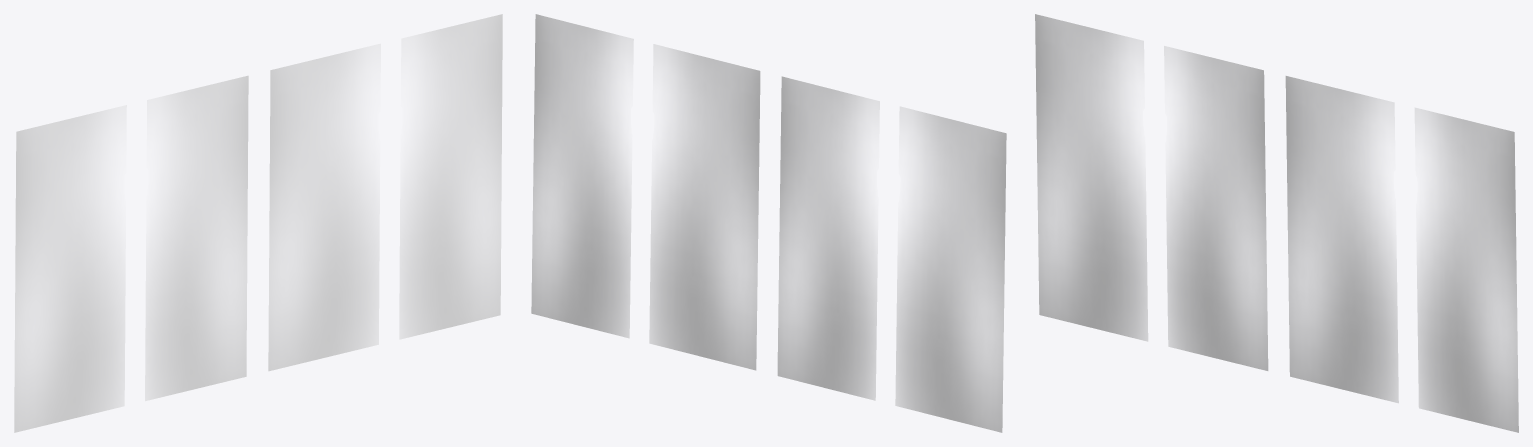
The model's file is fridge1_fridgeglass_0.001_lev2.glb.
3 renders of one model, left to right at view 1: azimuth 30°, elevation 25°; view 2: azimuth 150°, elevation 25°; view 3: azimuth 330°, elevation 25°, orthographic. The views are drawn at different scales.
Visible parts, largest first — view 1: fridge1_fridgeglass_0.001_lev2; view 2: fridge1_fridgeglass_0.001_lev2; view 3: fridge1_fridgeglass_0.001_lev2.
Boxes of the visible parts, x1,y1,x2,y2 form: fridge1_fridgeglass_0.001_lev2: (14, 14, 502, 432); fridge1_fridgeglass_0.001_lev2: (531, 14, 1006, 432); fridge1_fridgeglass_0.001_lev2: (1035, 14, 1518, 432).
Size of the model in its own units: 10.85 by 6.54 by 0.2326.
Materials: 1 (1 with a texture image).
